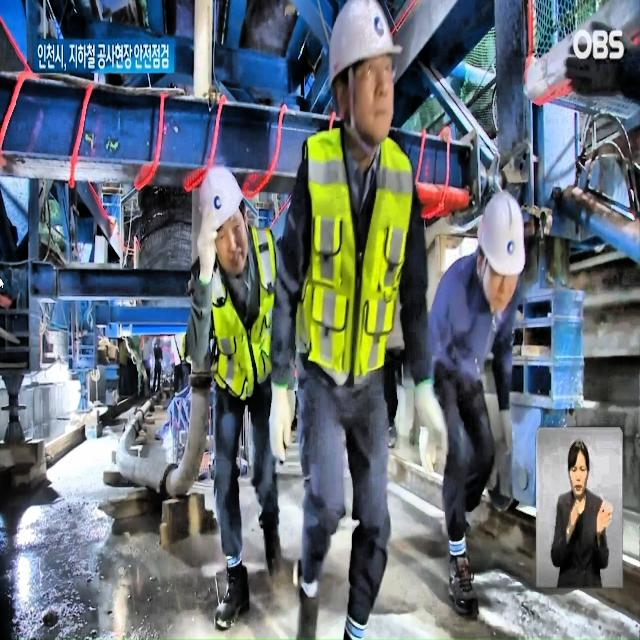safety_helmet: (481, 194, 538, 284), (324, 2, 406, 52), (186, 158, 240, 224)
safety_jacket: (300, 137, 416, 379), (195, 280, 289, 426)
